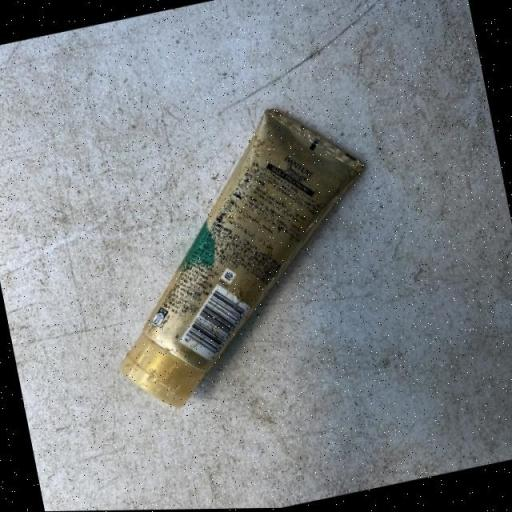plastic: (76, 90, 402, 420)
